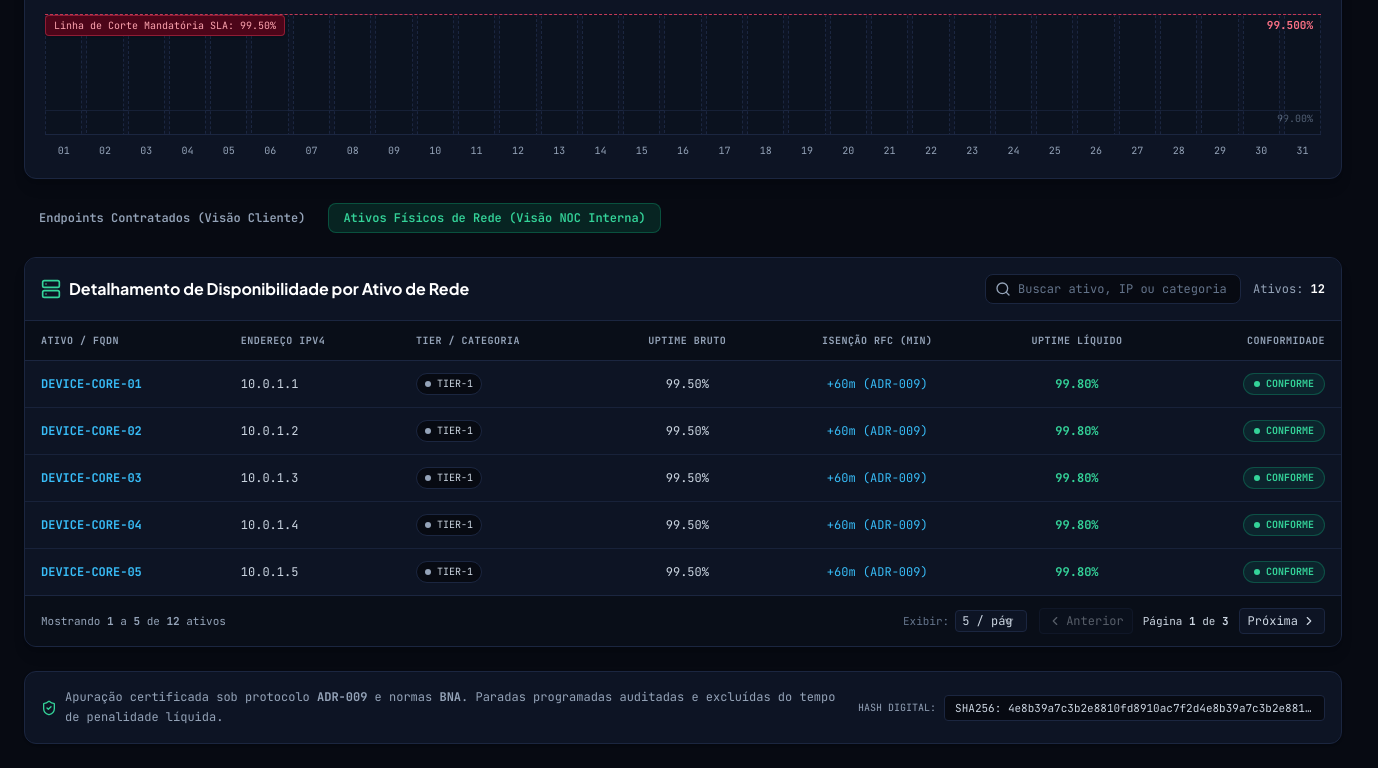
Test case: Gestão de Janelas de Manutenção & SLA (Issue #218) › Painel de Relatórios Analíticos de SLA (/sla) › deve paginar e filtrar a tabela de Ativos Físicos de Rede
(page scrolled)
Expected: the element with test id "sla-device-breakdown-table" is shown, [24,257,1342,647]
Expected: the element with test id "sla-devices-pagination" is shown, [25,595,1341,646]
// Avançar para página 2
Step 1. Click the button with test id "sla-devices-pagination-next" → (1282, 621), box [1239,608,1325,634]
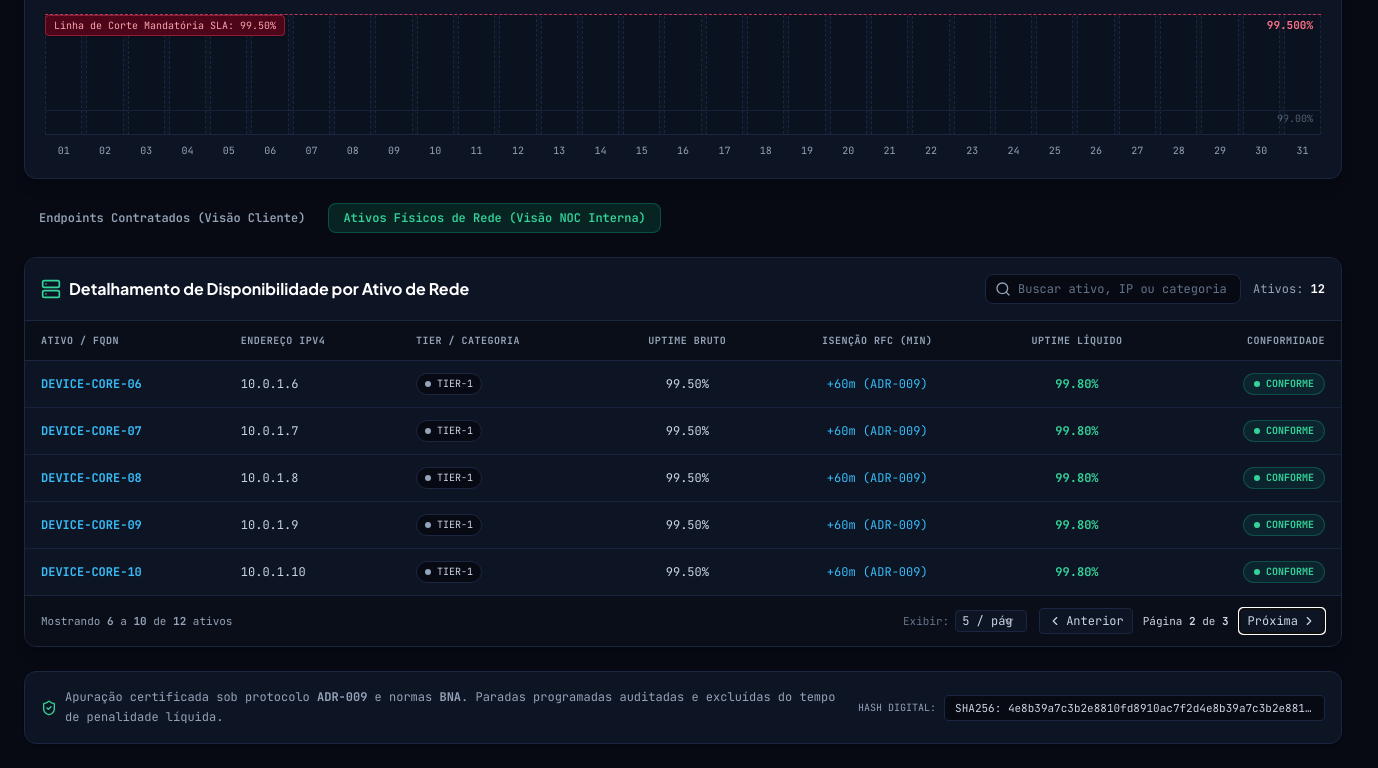
Expected: the link "DEVICE-CORE-06" is shown, [41,376,142,392]
Expected: the link "DEVICE-CORE-01" is gone
// Testar busca
Step 2. Type "CORE-12" into the field with test id "sla-device-search-input" → (1113, 289), box [985,274,1241,304]
(page scrolled)
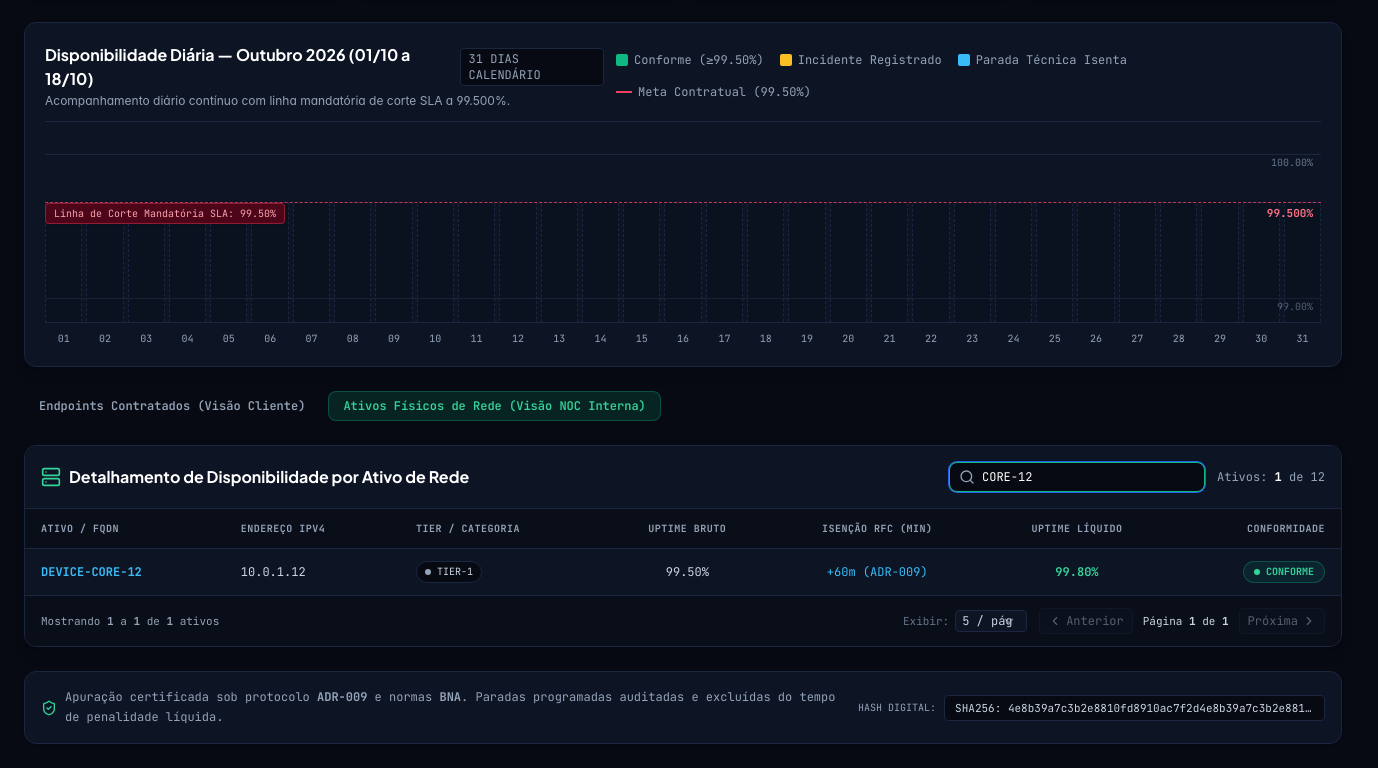
Expected: the link "DEVICE-CORE-12" is shown, [41,564,142,580]
Expected: the link "DEVICE-CORE-06" is gone
